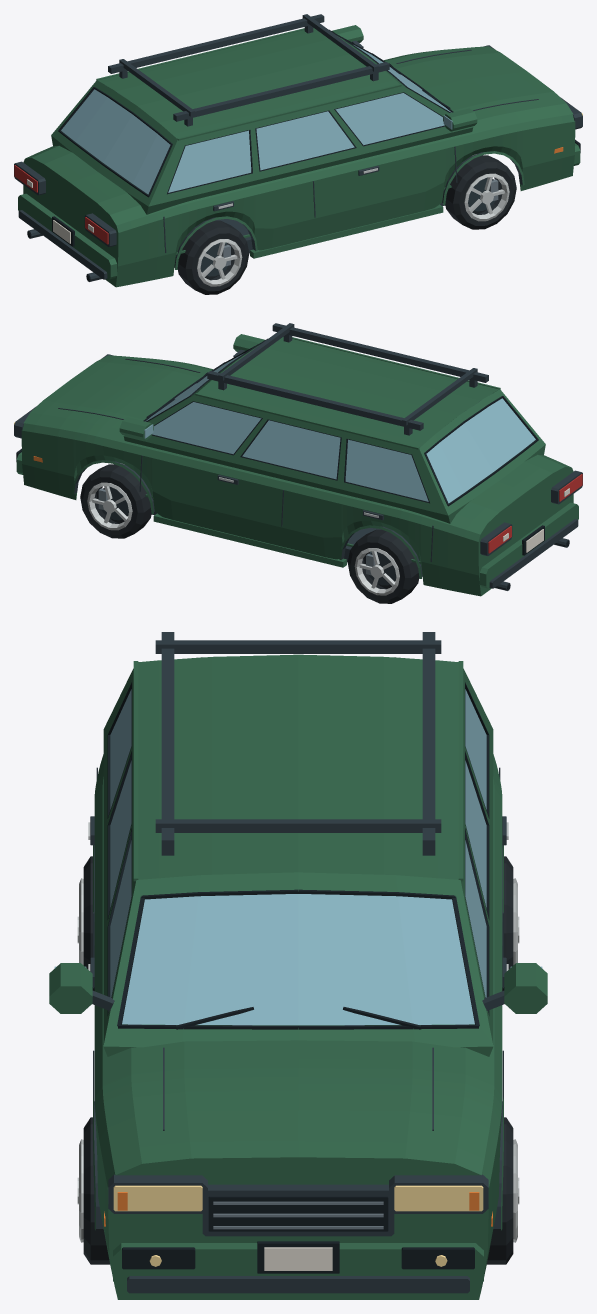
The model's file is b03_compact_station_wagon.glb.
3 views of the same model, one above another, from view 1: azimuth 30°, elevation 25°; view 2: azimuth 150°, elevation 25°; view 3: azimuth 270°, elevation 25° (orthographic). The views are drawn at different scales.
Parts seen in each view (by area): view 1: b03_compact_station_wagon; view 2: b03_compact_station_wagon; view 3: b03_compact_station_wagon.
Boxes of the visible parts, x1,y1,x2,y2 form: b03_compact_station_wagon: (14,14,582,294); b03_compact_station_wagon: (14,323,582,603); b03_compact_station_wagon: (49,632,547,1299).
Bounding box in the file's own units: 4.86 × 1.68 × 2.19.
